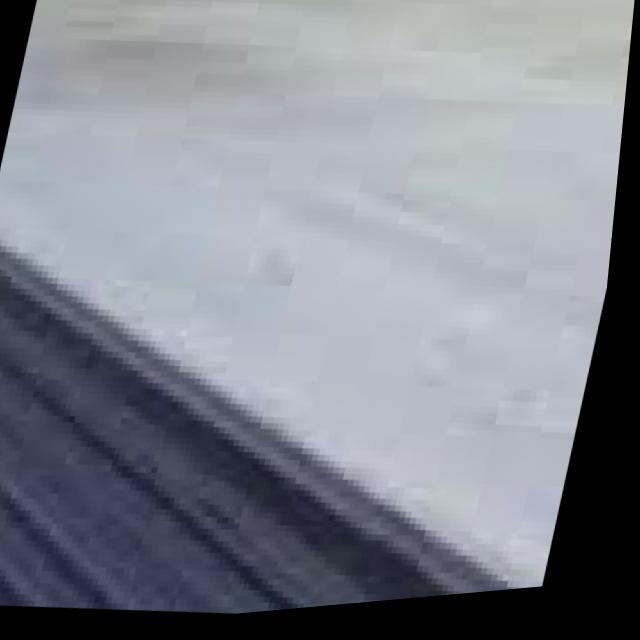metal-plates: (1, 26, 629, 620)
